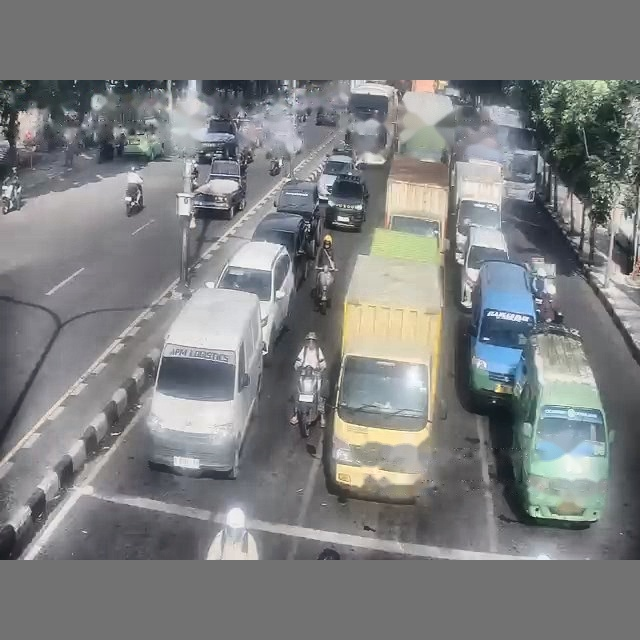Bis: (481, 105, 538, 202), (345, 81, 398, 166)
Mobil: (216, 241, 294, 358), (252, 212, 313, 289), (274, 179, 321, 254), (325, 174, 367, 230), (191, 117, 237, 163), (317, 153, 354, 201), (123, 126, 163, 161), (316, 107, 339, 126)
Motor: (295, 365, 320, 438), (314, 265, 336, 314), (1, 184, 21, 214), (125, 184, 143, 216), (269, 156, 283, 175)
Truk: (325, 255, 445, 501), (385, 155, 448, 251)
